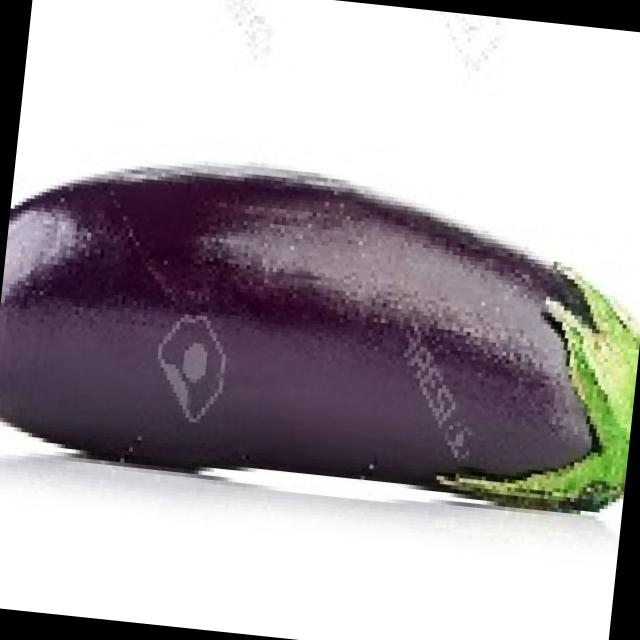eggplant: (0, 137, 640, 518)
